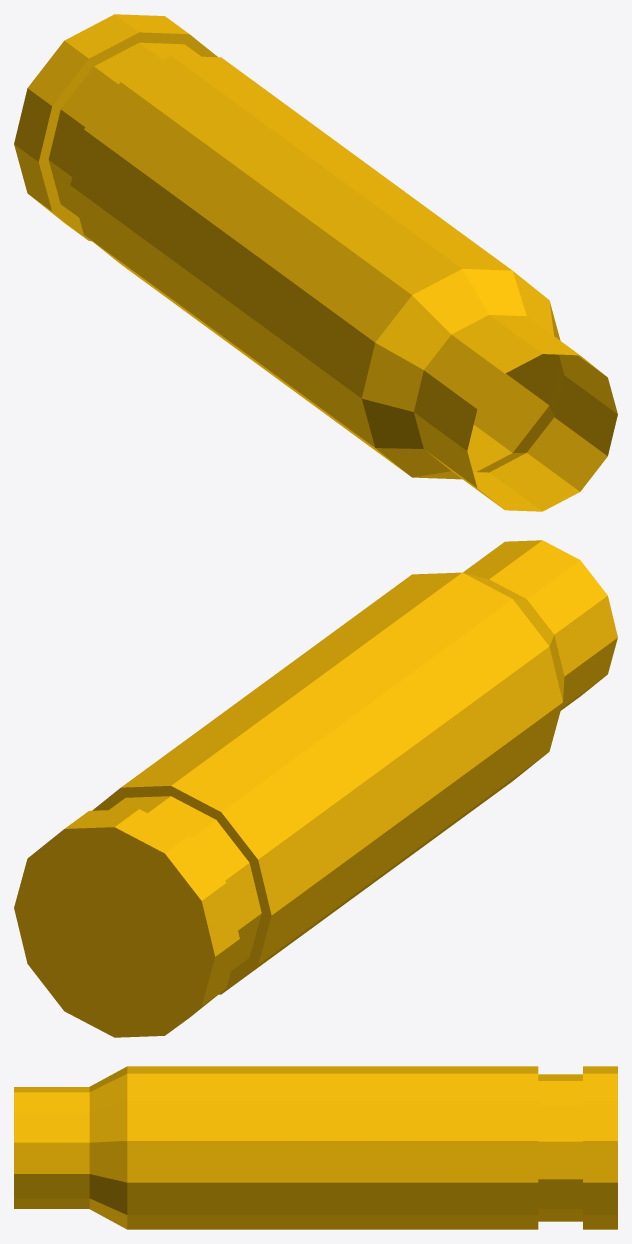
File: Bullet.fbx
The picture shows the model from 3 angles, top to bottom: view 1: azimuth 30°, elevation 25°; view 2: azimuth 150°, elevation 25°; view 3: azimuth 270°, elevation 25°; orthographic projection. The views are drawn at different scales.
Visible parts, largest first — view 1: Cylinder.003; view 2: Cylinder.003; view 3: Cylinder.003.
Boxes of the visible parts, x1,y1,x2,y2 form: Cylinder.003: (14, 14, 617, 511); Cylinder.003: (14, 540, 617, 1037); Cylinder.003: (14, 1066, 617, 1229).
Bounding box in the file's own units: 1.1 × 1.1 × 4.04.
